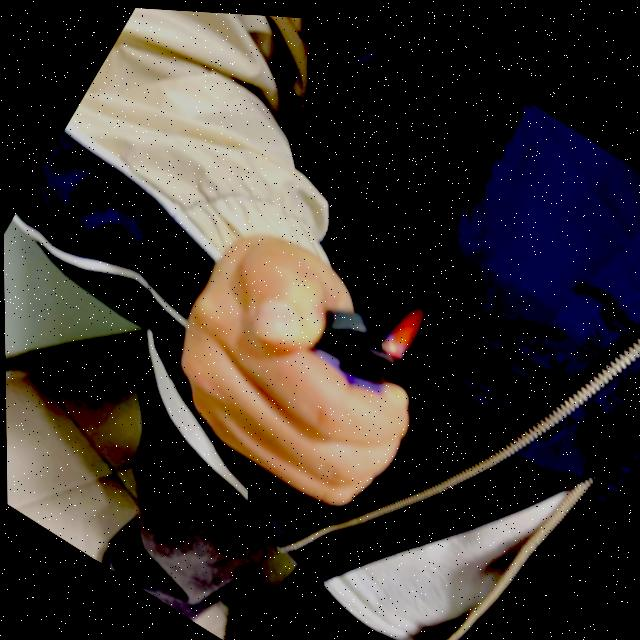Fire: (380, 292, 437, 362)
